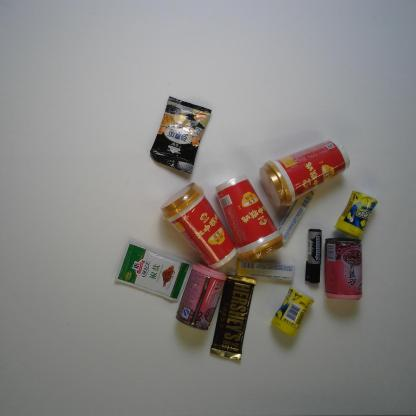Candy: (272, 186, 317, 245), (236, 258, 296, 284)
Canned Food: (179, 261, 228, 332), (323, 235, 366, 303)
Chocolate: (208, 271, 255, 363)
Gum: (271, 287, 316, 341), (334, 190, 376, 239)
Instant Drink: (159, 180, 240, 272), (215, 174, 288, 264), (256, 142, 351, 208), (149, 97, 211, 176)
Seasoner: (115, 244, 192, 303)
Stationery: (306, 226, 326, 283)
